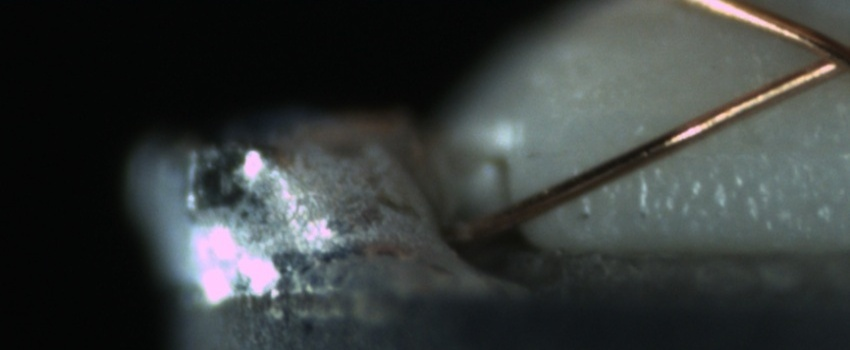CL: (792, 25, 849, 86)
